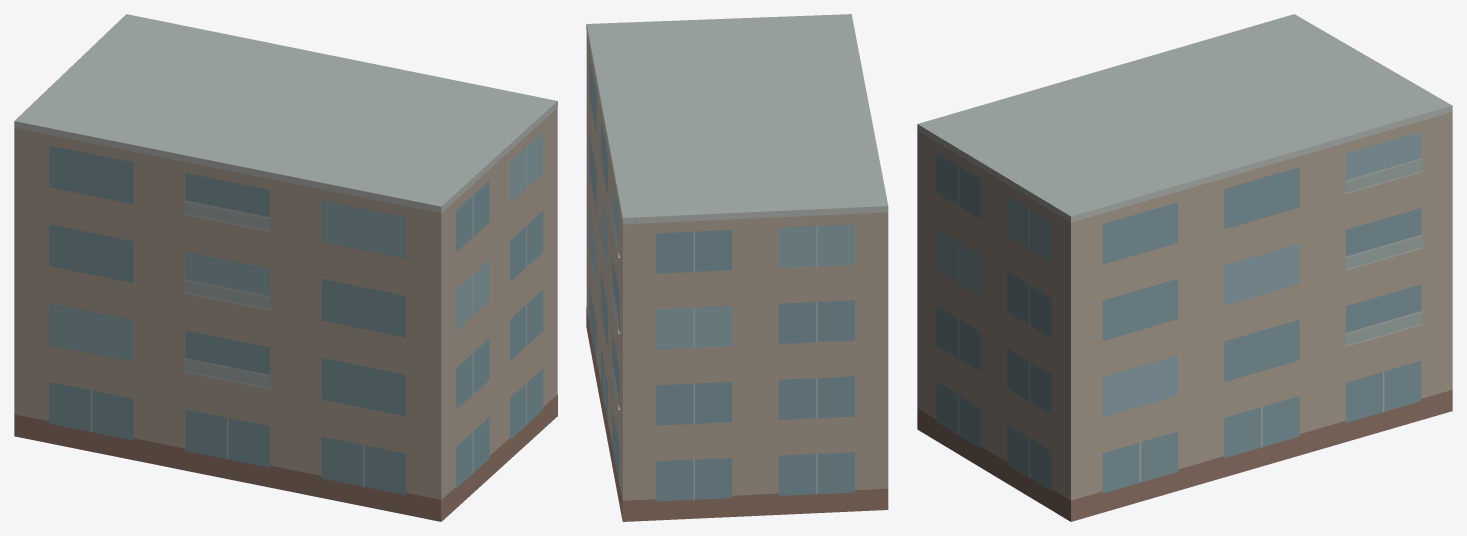
The model's file is survey-upis-33005919.glb.
The picture shows the model from 3 angles, left to right: view 1: azimuth 30°, elevation 25°; view 2: azimuth 150°, elevation 25°; view 3: azimuth 270°, elevation 25°; orthographic projection. The views are drawn at different scales.
Parts seen in each view (by area): view 1: survey-upis-33005919.tmp; view 2: survey-upis-33005919.tmp; view 3: survey-upis-33005919.tmp.
Boxes of the visible parts, x1,y1,x2,y2 form: survey-upis-33005919.tmp: (14, 14, 557, 521); survey-upis-33005919.tmp: (586, 14, 888, 521); survey-upis-33005919.tmp: (917, 14, 1452, 521).
Bounding box in the file's own units: 16.79 × 11.8 × 18.75.
